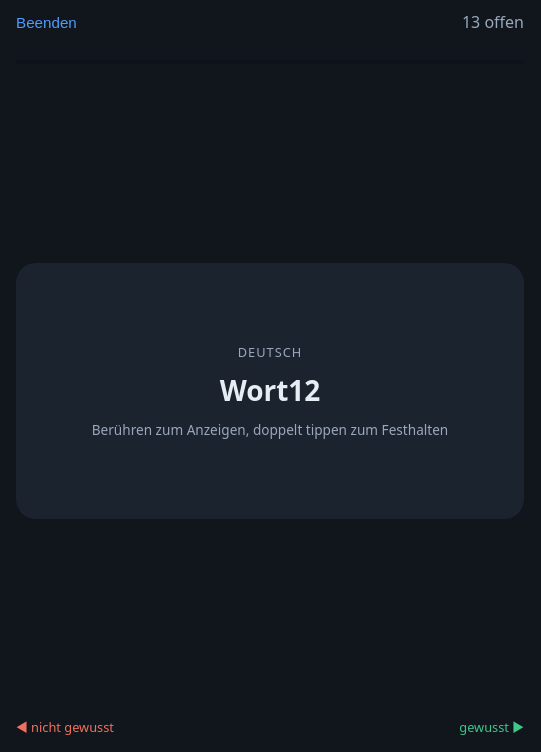
Test: Zurückblättern › bietet "Zurück" erst nach der ersten Bewertung an
The width and height of the screenshot is (541, 752).
Expected: the button "← Zurück" is not shown
Press the mouse on the element that starts with "Deutsch": (270, 391) [16,263,524,519]
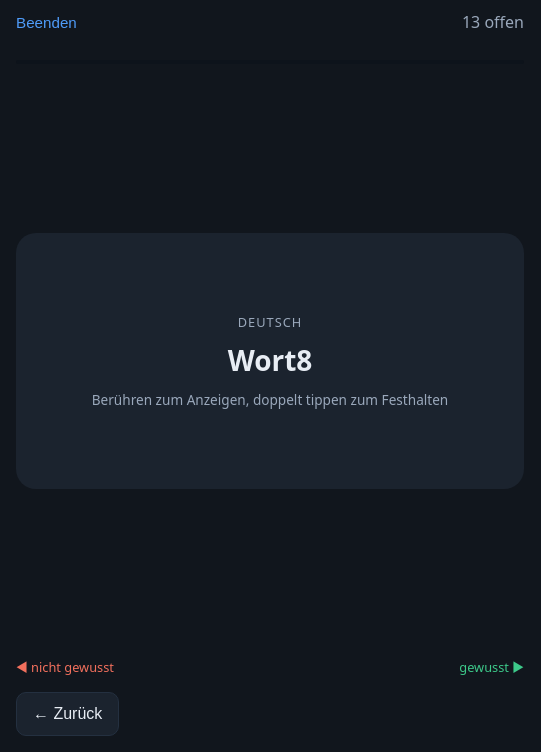
Now the button "← Zurück" is shown, box [16,692,119,736]
